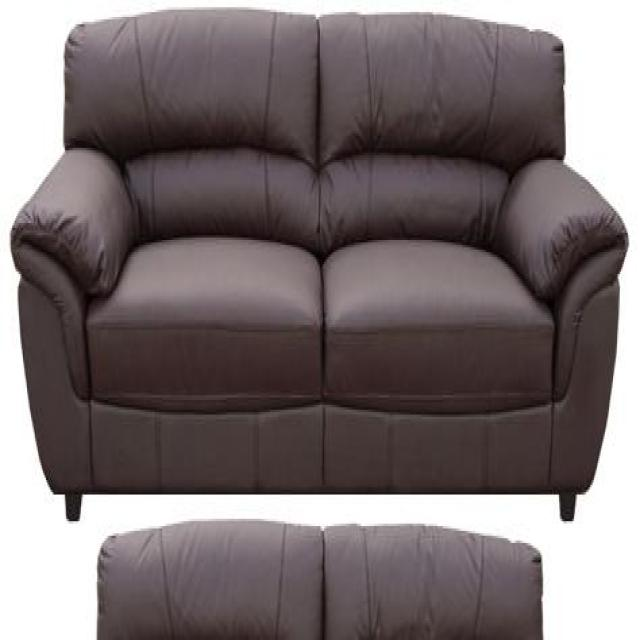sofa: (9, 6, 630, 524)
